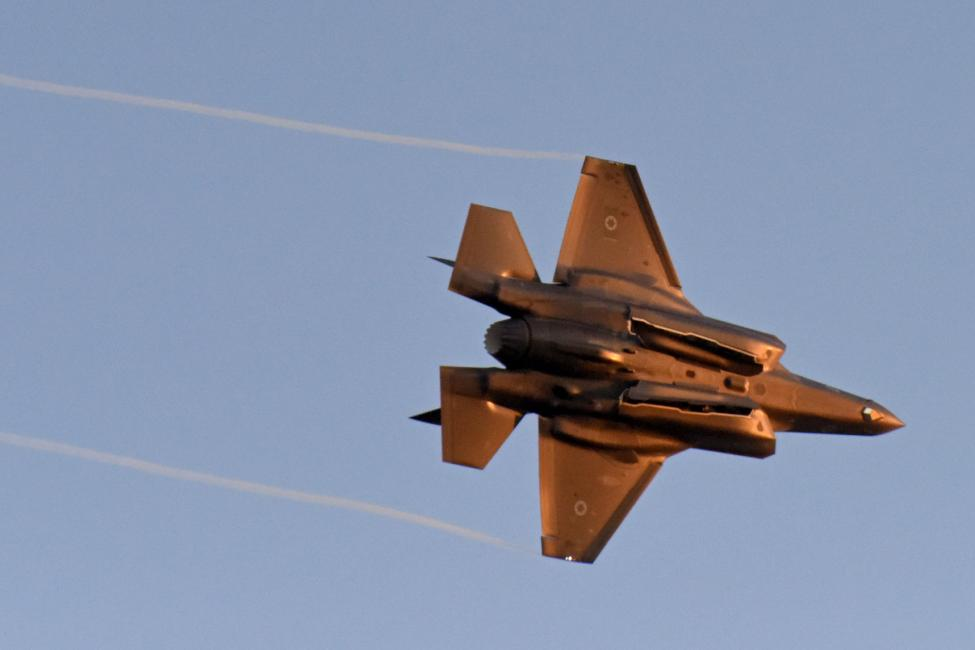F-35 Lightning: (343, 108, 928, 608)
